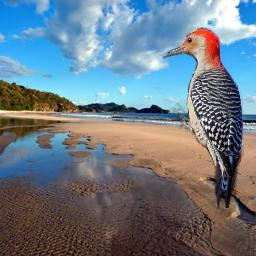Woodpecker: (163, 27, 244, 208)
